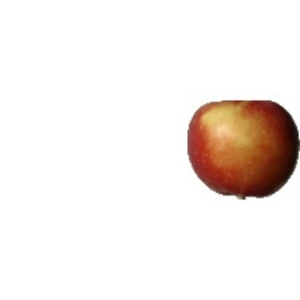maçã braeburn: (186, 96, 300, 204)
